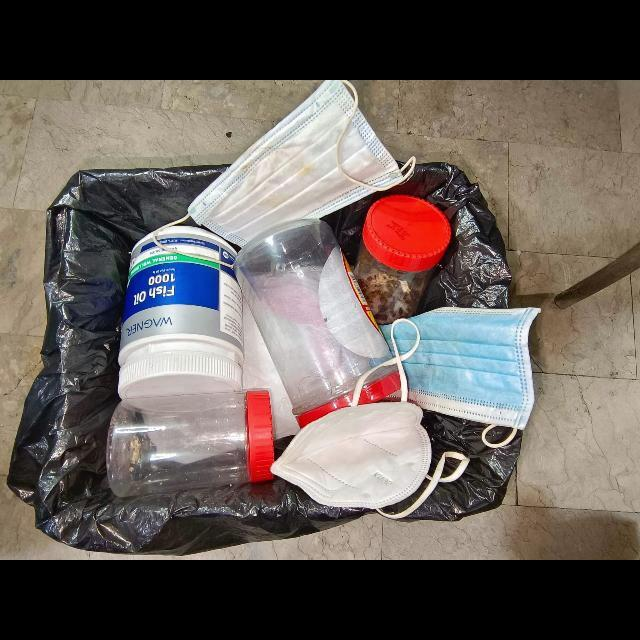plastic_container: (234, 219, 394, 429), (117, 226, 244, 400), (108, 390, 275, 498), (353, 195, 452, 325)
